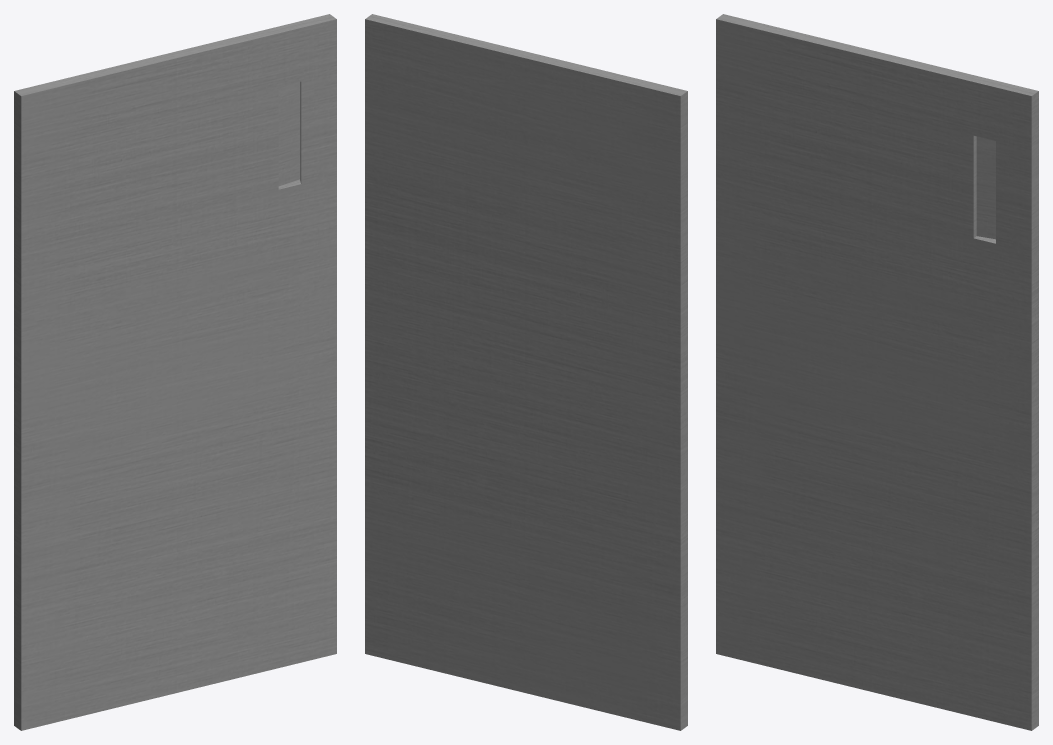
File: acidcab_b.gltf
The picture shows the model from 3 angles, left to right: view 1: azimuth 30°, elevation 25°; view 2: azimuth 150°, elevation 25°; view 3: azimuth 330°, elevation 25°; orthographic projection.
Visible parts, largest first — view 1: drawer_j1.001_Cube.050; view 2: drawer_j1.001_Cube.050; view 3: drawer_j1.001_Cube.050.
Part boxes in pixels (bbox=[...]): drawer_j1.001_Cube.050: bbox=[14, 14, 336, 730]; drawer_j1.001_Cube.050: bbox=[365, 14, 687, 730]; drawer_j1.001_Cube.050: bbox=[716, 14, 1038, 730].
Size of the model in its own units: 1.85 by 3.56 by 0.0721.
1 material, 1 textured.
